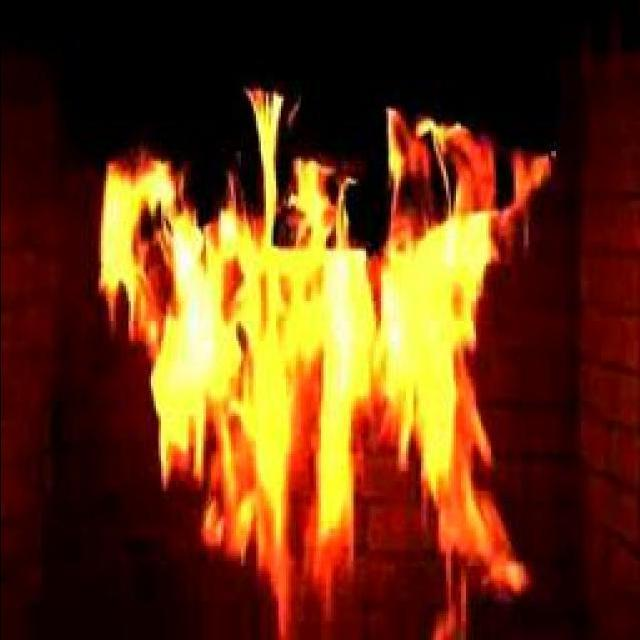Fire: (134, 155, 498, 552)
